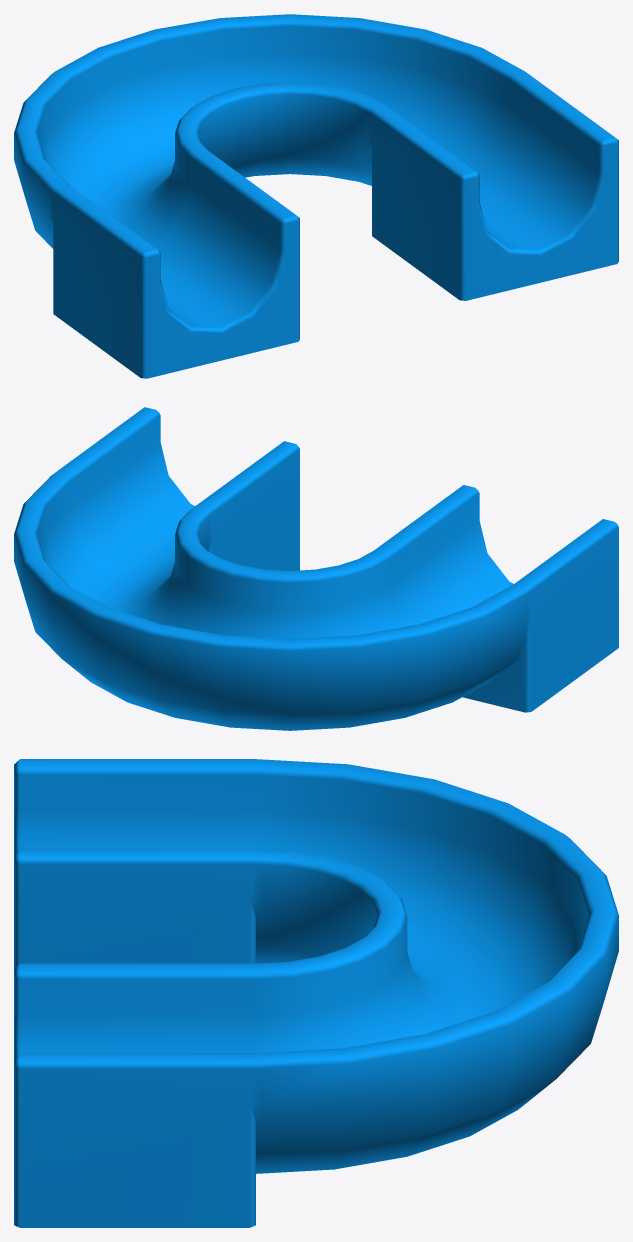
File: Track U 3x3.fbx
3 renders of one model, top to bottom at view 1: azimuth 30°, elevation 25°; view 2: azimuth 150°, elevation 25°; view 3: azimuth 270°, elevation 25°, orthographic. The views are drawn at different scales.
Parts seen in each view (by area): view 1: Track U 3x3; view 2: Track U 3x3; view 3: Track U 3x3.
Boxes of the visible parts, x1,y1,x2,y2 form: Track U 3x3: [14, 14, 618, 378]; Track U 3x3: [14, 407, 618, 730]; Track U 3x3: [14, 759, 618, 1227].
Bounding box in the file's own units: 300 × 75 × 250.
